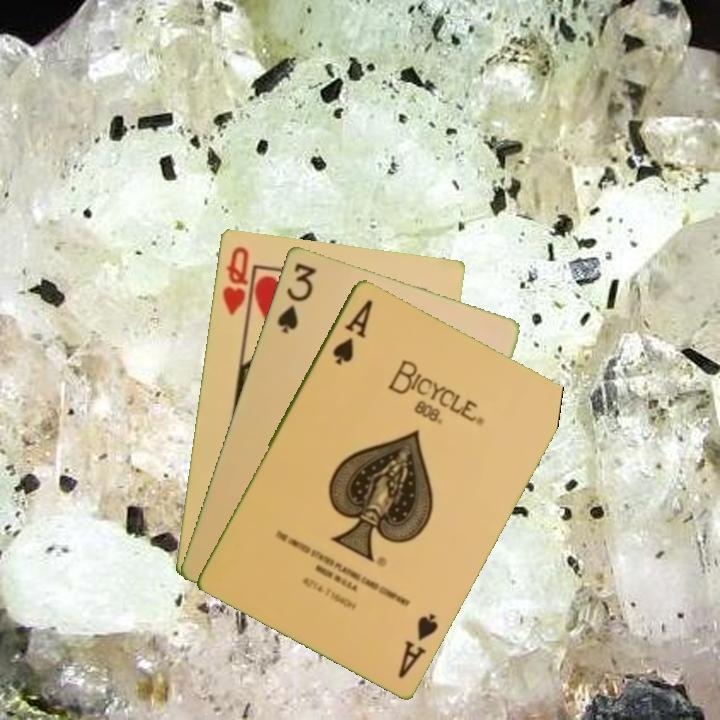3s: (273, 258, 319, 336)
As: (328, 295, 376, 368), (394, 609, 441, 681)
Qh: (219, 242, 252, 318)
